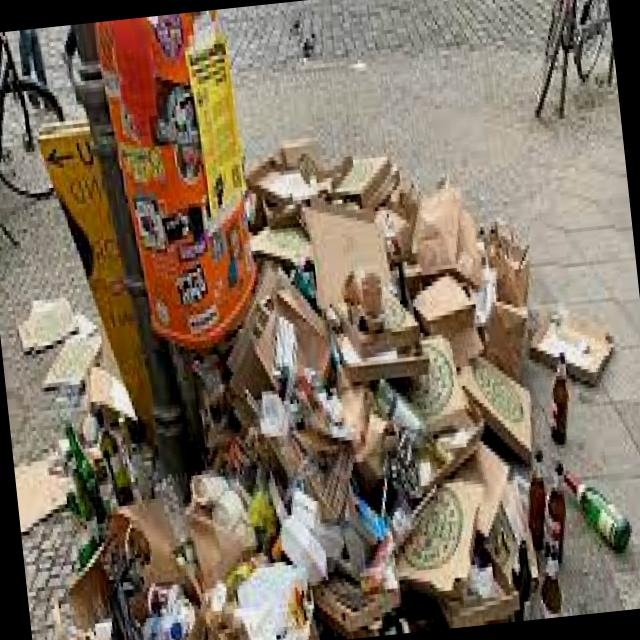garbage: (8, 86, 640, 640)
